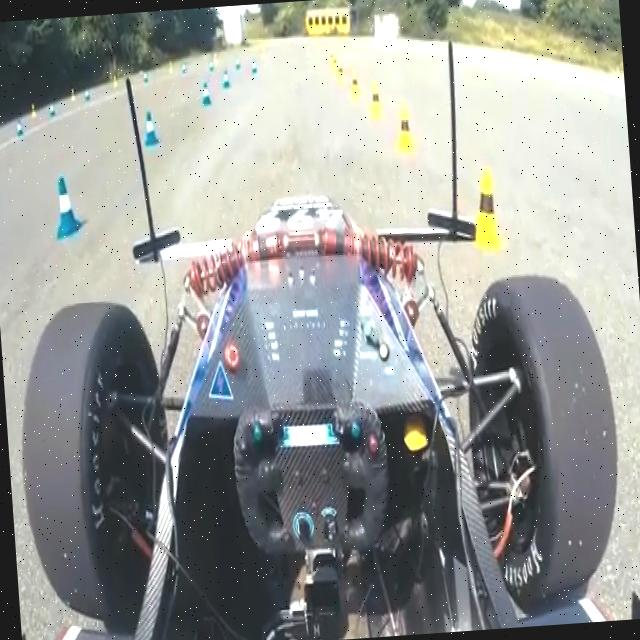blue_cone: (35, 157, 94, 235), (134, 94, 165, 148), (194, 74, 220, 126), (222, 57, 238, 101)
yellow_cone: (472, 148, 510, 261), (391, 91, 429, 160), (366, 70, 390, 122), (326, 30, 346, 77), (348, 58, 358, 102)
